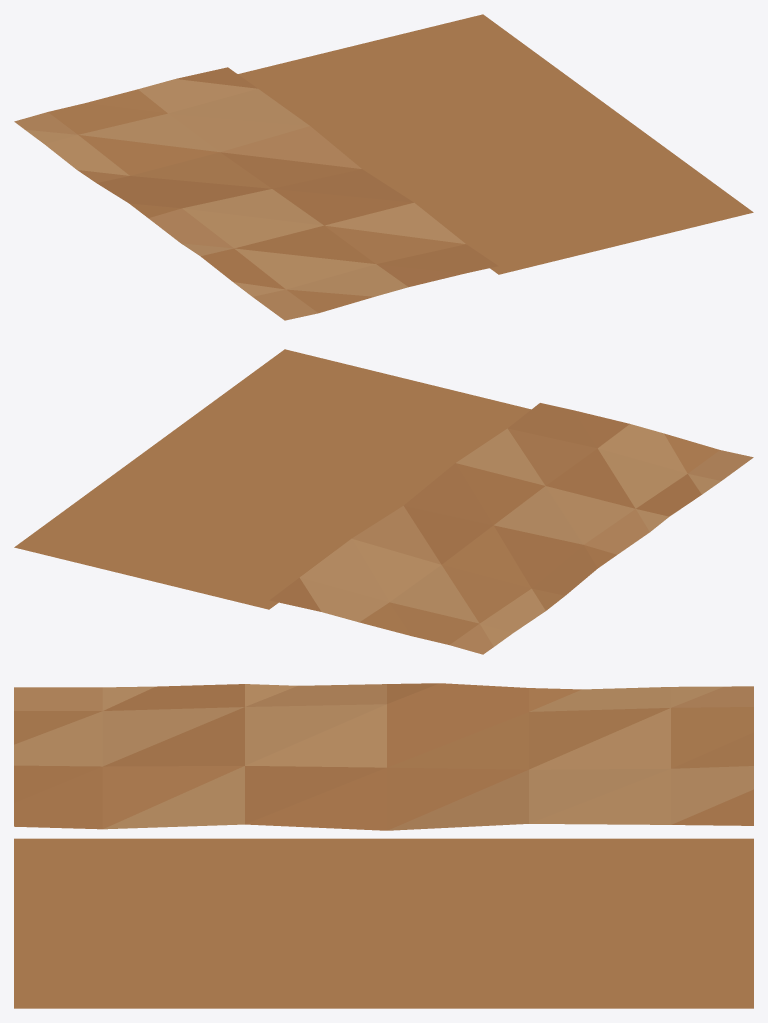
3 renders of one model, top to bottom at view 1: azimuth 30°, elevation 25°; view 2: azimuth 150°, elevation 25°; view 3: azimuth 270°, elevation 25°, orthographic. The views are drawn at different scales.
Visible parts, largest first — view 1: baked; view 2: baked; view 3: baked.
Boxes of the visible parts, left/top/right/bottom form: baked: left=14, top=14, right=753, bottom=320; baked: left=14, top=349, right=753, bottom=654; baked: left=14, top=683, right=753, bottom=1008.
Size of the model in its own units: 62.5 by 1.38 by 62.5.
